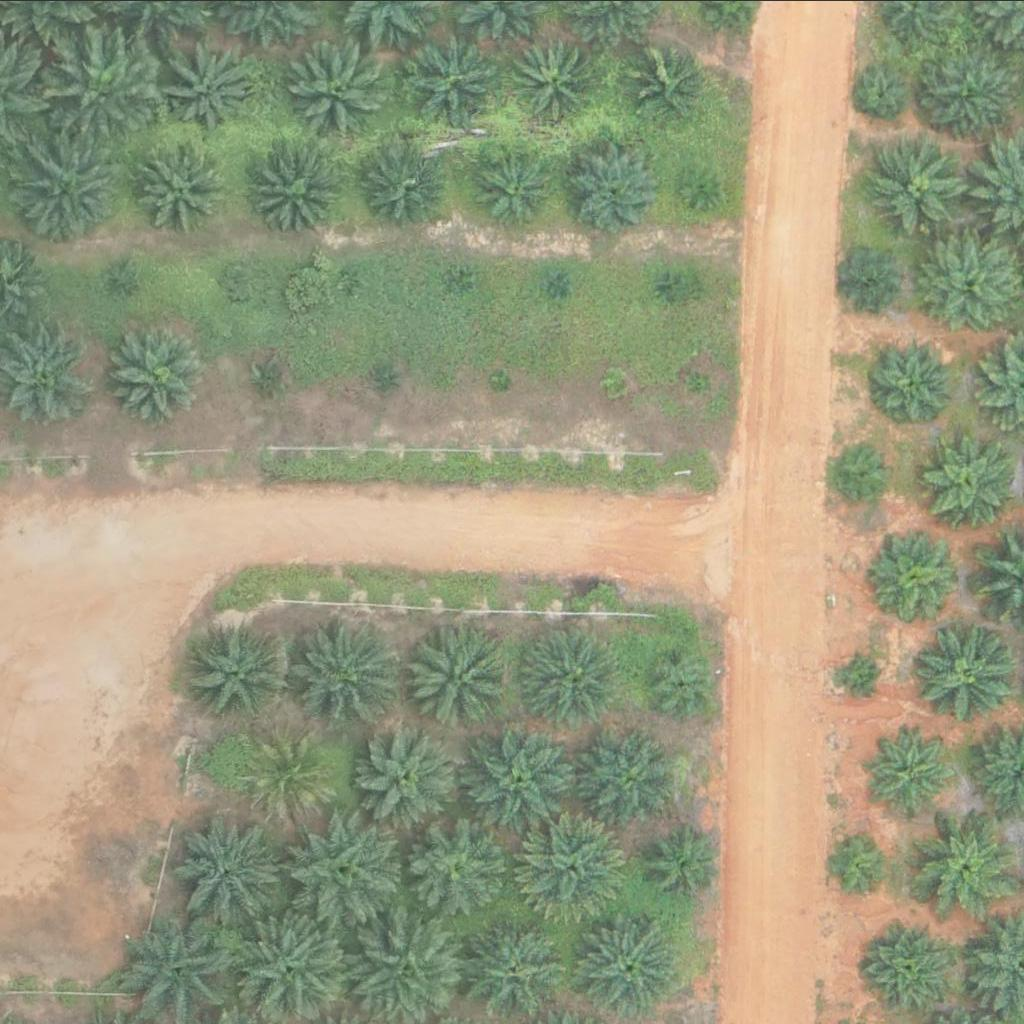Kelapa_Sawit: (9, 132, 123, 245), (172, 808, 286, 921), (288, 810, 402, 923), (123, 910, 237, 1023), (461, 721, 574, 834), (43, 30, 157, 142), (229, 911, 343, 1023), (522, 809, 635, 921), (558, 133, 671, 245), (287, 614, 400, 726), (288, 39, 389, 139), (400, 31, 501, 131), (100, 326, 201, 426), (187, 624, 288, 724), (579, 727, 680, 827), (470, 918, 571, 1018), (577, 914, 678, 1014), (916, 813, 1017, 913), (919, 234, 1020, 334), (867, 134, 968, 234), (921, 45, 1022, 145), (407, 629, 507, 729), (521, 624, 621, 724), (360, 723, 460, 823), (410, 817, 510, 917), (913, 621, 1013, 721), (469, 139, 558, 227), (361, 142, 449, 230), (513, 33, 601, 121), (250, 730, 338, 818), (868, 728, 956, 816), (923, 435, 1011, 523), (872, 336, 960, 424), (166, 42, 254, 129), (133, 142, 221, 229), (255, 149, 343, 236), (865, 917, 953, 1004), (877, 530, 965, 617), (643, 643, 719, 718), (631, 39, 706, 114), (649, 825, 724, 900), (842, 249, 905, 312), (823, 835, 886, 897), (835, 440, 898, 502), (859, 67, 909, 117), (225, 260, 263, 298), (680, 167, 718, 205), (843, 653, 881, 690), (110, 260, 135, 285), (340, 264, 365, 289), (456, 270, 481, 295), (260, 364, 285, 389), (373, 364, 398, 389), (491, 368, 516, 393), (603, 372, 628, 397), (687, 369, 712, 394), (545, 269, 570, 294), (655, 276, 680, 301)
